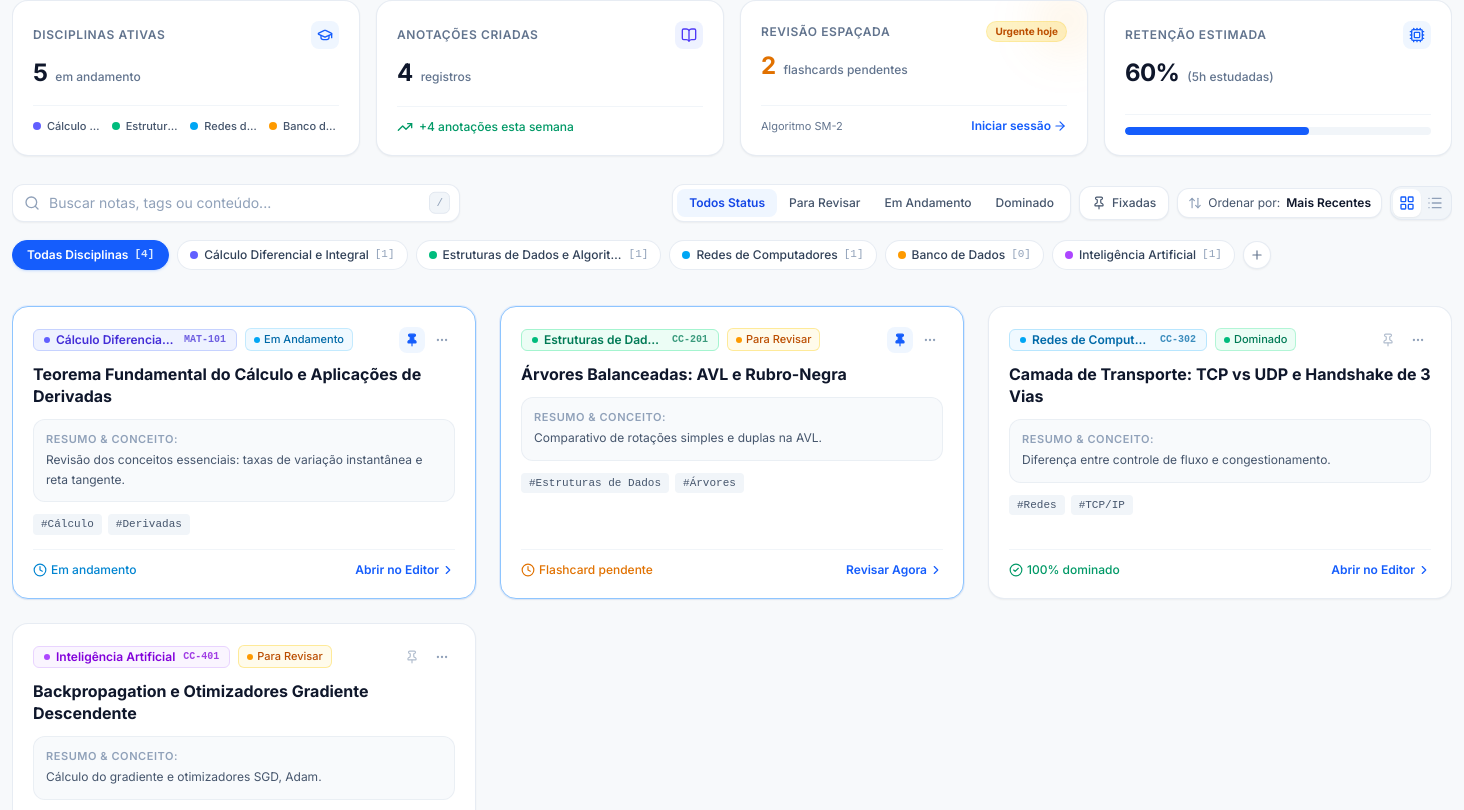
Scenario: AcademicView › alterna entre o modo de grade e o modo studio ao selecionar uma nota e volta para grade
Check: the element named "Estatísticas Acadêmicas" is shown, box [12, 0, 1452, 156]
# Switch to Studio mode by clicking a note
Click the heading "Árvores Balanceadas: AVL e Rubro-Negra".
click(684, 374)  # box [521, 364, 847, 384]
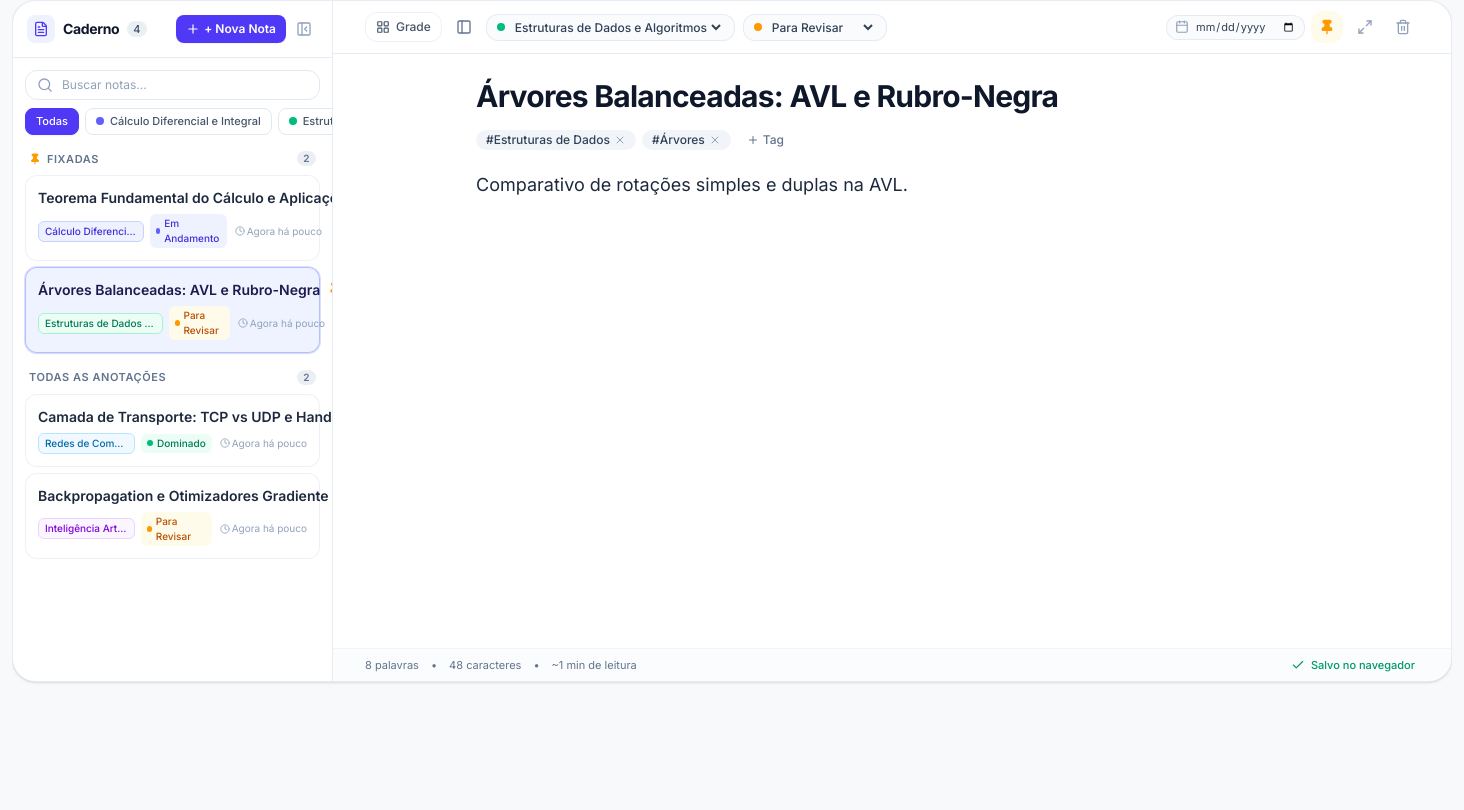
Check: the heading "Caderno" is shown, box [63, 19, 119, 39]
Check: the element named "Editor do estúdio" is shown
# Switch back to Grade mode
Click the button with aria-label "Voltar para Grade".
click(403, 27)  # box [365, 12, 442, 42]
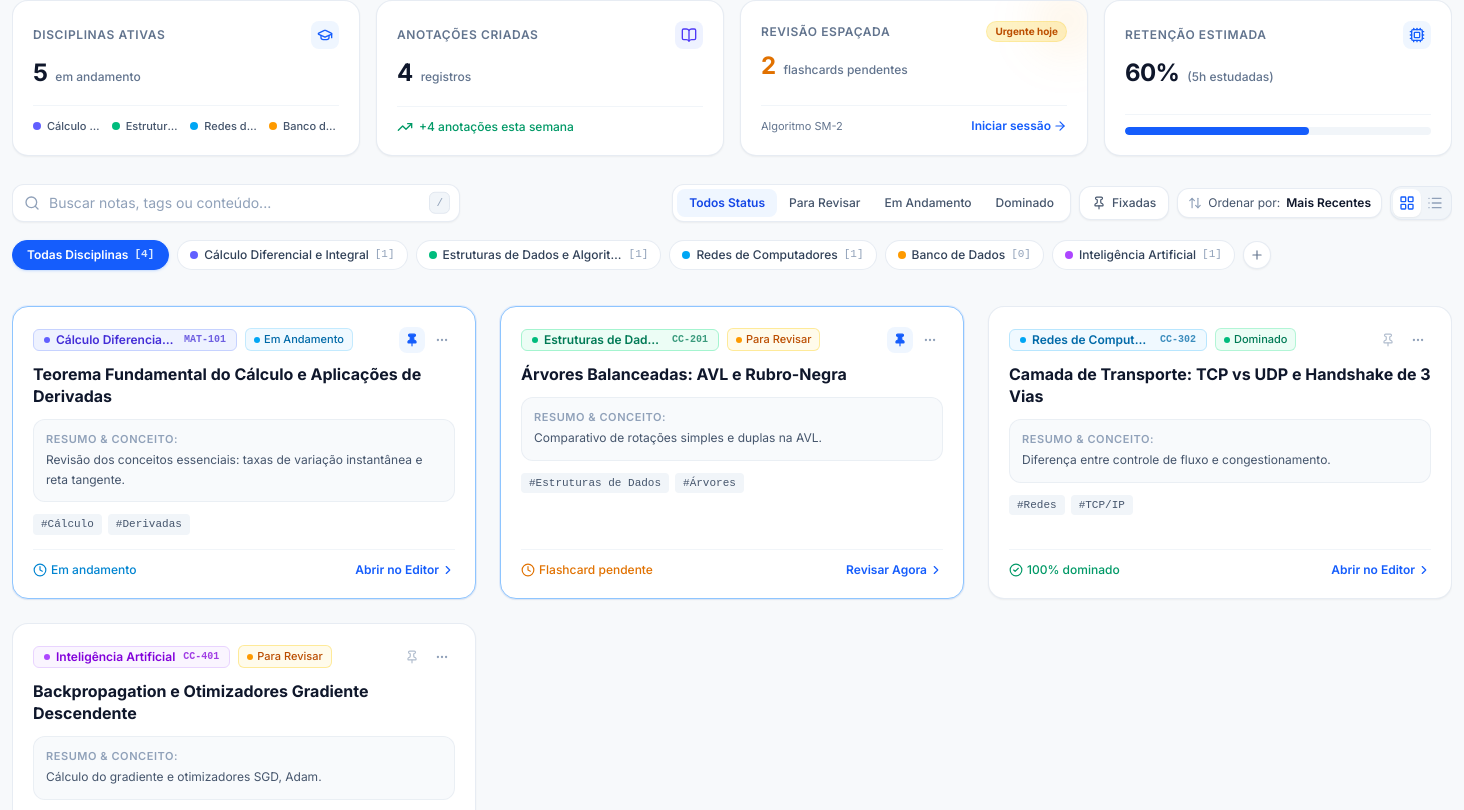
Check: the element named "Estatísticas Acadêmicas" is shown, box [12, 0, 1452, 156]
